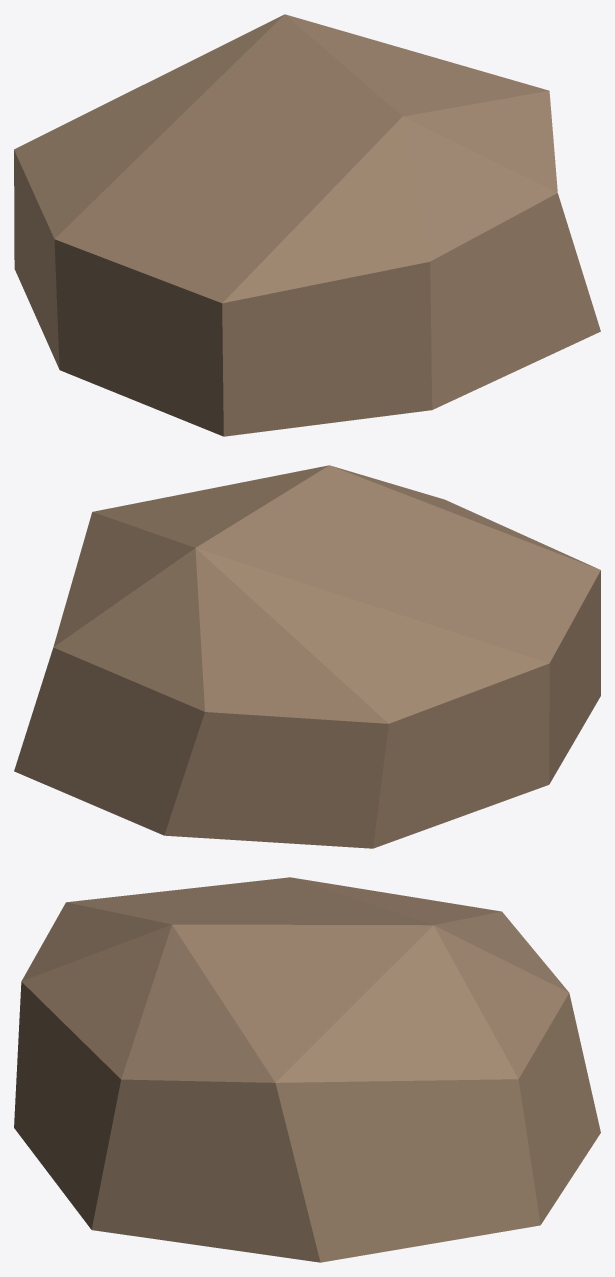
Rendered from Rock.014.fbx.
3 renders of one model, top to bottom at view 1: azimuth 30°, elevation 25°; view 2: azimuth 150°, elevation 25°; view 3: azimuth 270°, elevation 25°, orthographic. The views are drawn at different scales.
Visible parts, largest first — view 1: Rock.014; view 2: Rock.014; view 3: Rock.014.
Part boxes in pixels (<box>): Rock.014: <box>14,14,600,436</box>; Rock.014: <box>14,465,600,848</box>; Rock.014: <box>14,877,600,1262</box>.
Size of the model in its own units: 1.72 by 0.7332 by 1.68.
